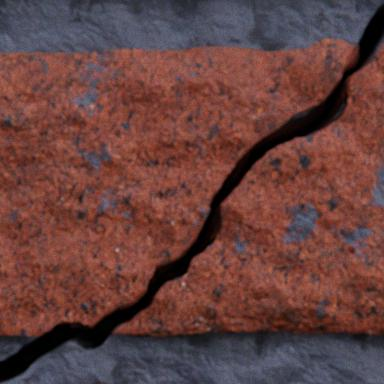broken_brick: (0, 40, 353, 335), (111, 45, 383, 337)
crack: (0, 1, 383, 383)
